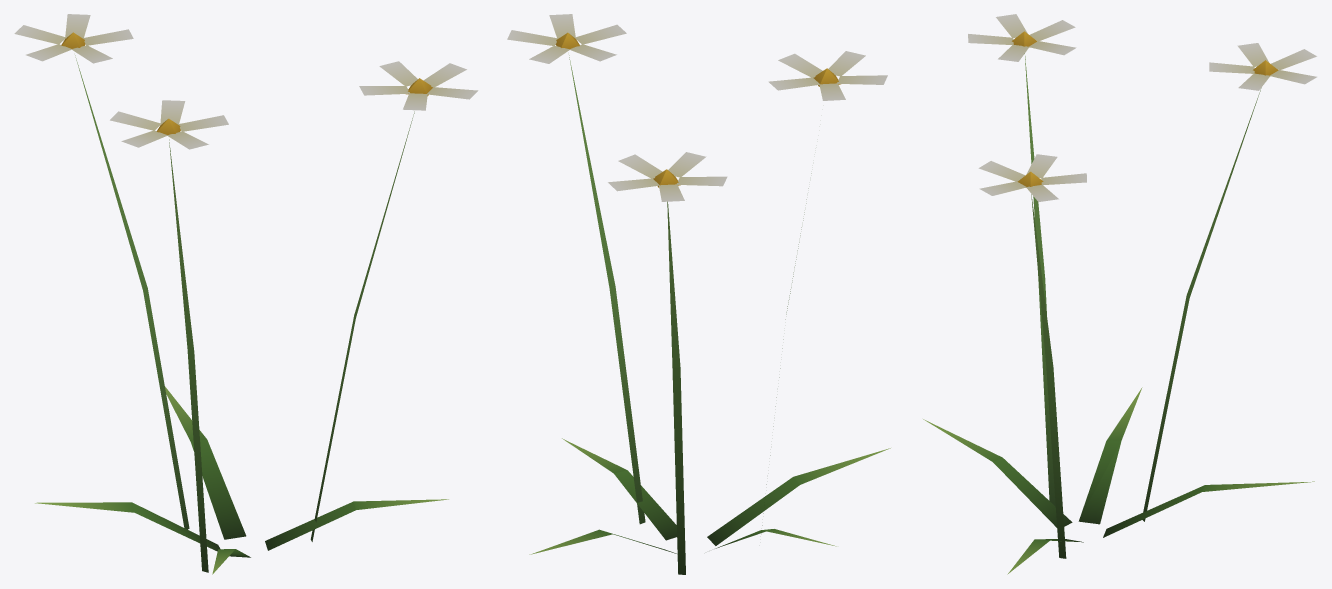
File: flower_white_01.glb
The picture shows the model from 3 angles, left to right: view 1: azimuth 30°, elevation 25°; view 2: azimuth 150°, elevation 25°; view 3: azimuth 270°, elevation 25°; orthographic projection. The views are drawn at different scales.
Parts seen in each view (by area): view 1: flower_white_01_mesh; view 2: flower_white_01_mesh; view 3: flower_white_01_mesh.
Boxes of the visible parts, x1,y1,x2,y2 form: flower_white_01_mesh: (14, 14, 478, 574); flower_white_01_mesh: (507, 14, 890, 574); flower_white_01_mesh: (923, 14, 1316, 574).
Size of the model in its own units: 0.2271 by 0.272 by 0.2162.
